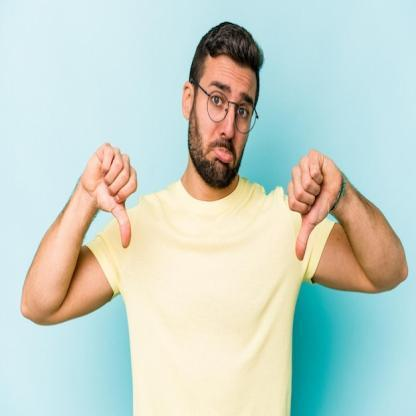thumb_down: (79, 135, 141, 252), (285, 147, 339, 263)
